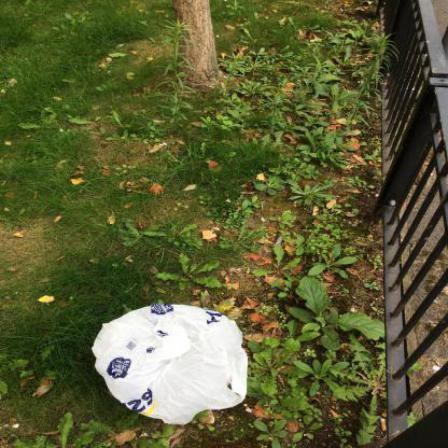Plastic bag - wrapper: (93, 305, 249, 426)
